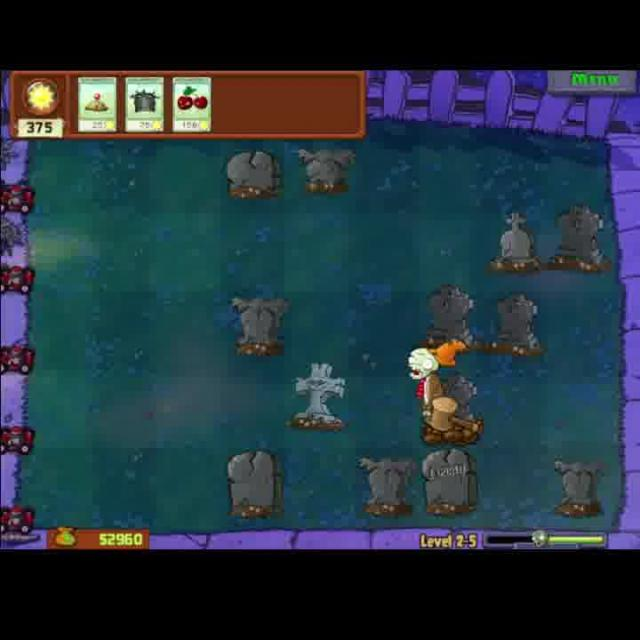coins: (403, 342, 458, 444)
